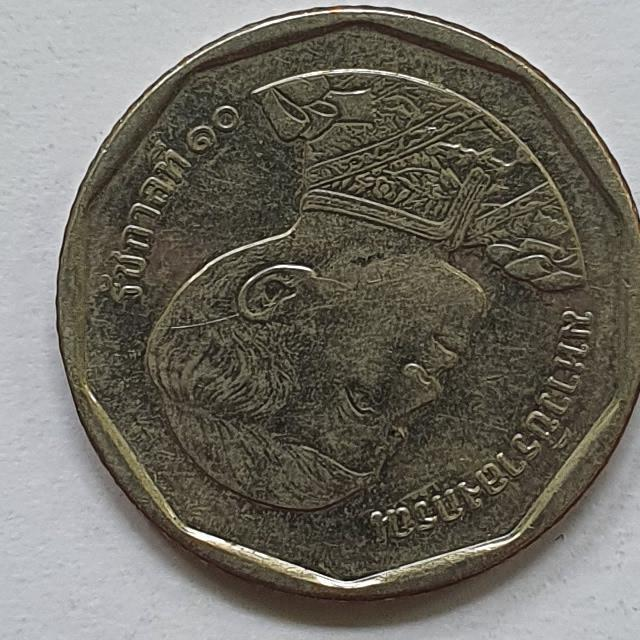5 Bath: (45, 1, 640, 614)
